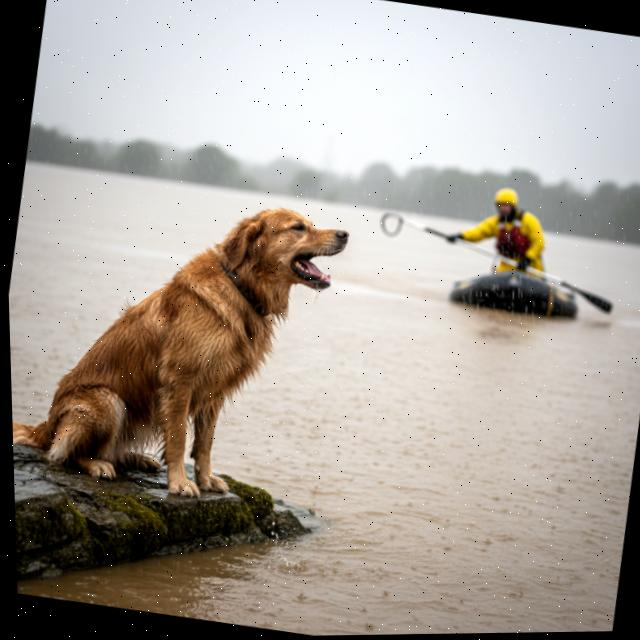dog: (5, 147, 375, 532)
rescuer: (421, 171, 573, 304)
